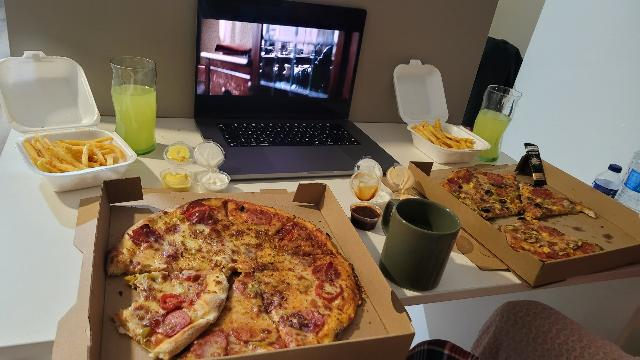Cam: (106, 52, 160, 158), (469, 81, 525, 163)
Organik: (111, 196, 358, 346), (447, 165, 586, 259), (29, 131, 118, 172), (417, 119, 469, 153)
Plastik: (0, 47, 106, 132), (389, 57, 455, 124), (588, 145, 640, 214)
